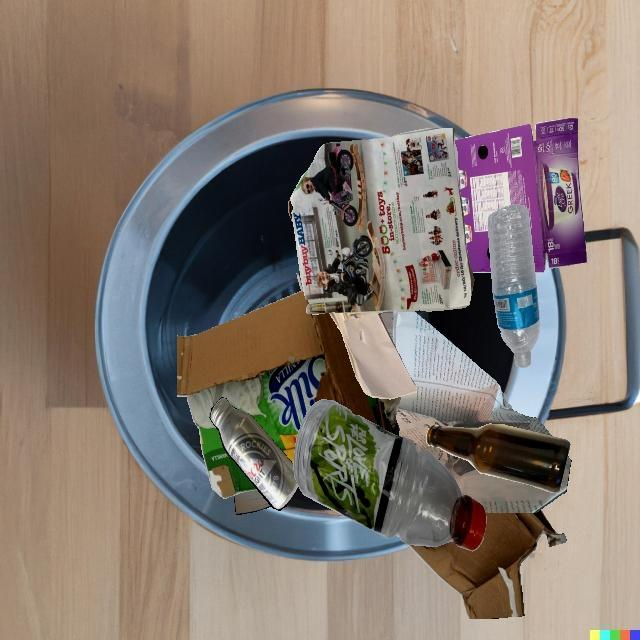cardboard: (177, 273, 392, 499), (455, 118, 587, 273), (407, 509, 567, 619)
glass: (426, 423, 570, 493), (379, 396, 400, 436), (289, 199, 293, 222)
metal: (209, 397, 299, 510)
paper: (380, 311, 571, 513), (290, 128, 474, 315), (329, 312, 417, 399), (234, 490, 271, 514)
plastic: (293, 400, 487, 551), (488, 204, 540, 368), (502, 392, 511, 409)
